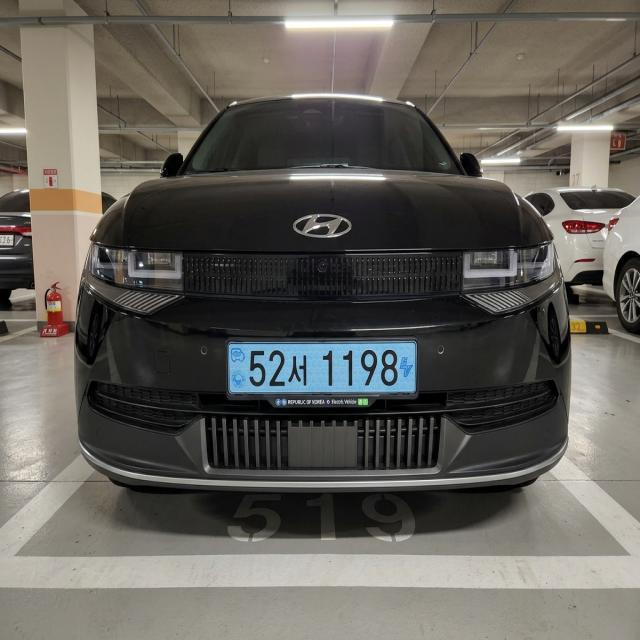car: (216, 331, 435, 419)
carev: (228, 341, 246, 398), (399, 345, 421, 391)
